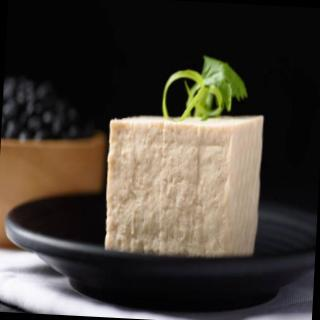Tahu: (102, 112, 275, 260)
